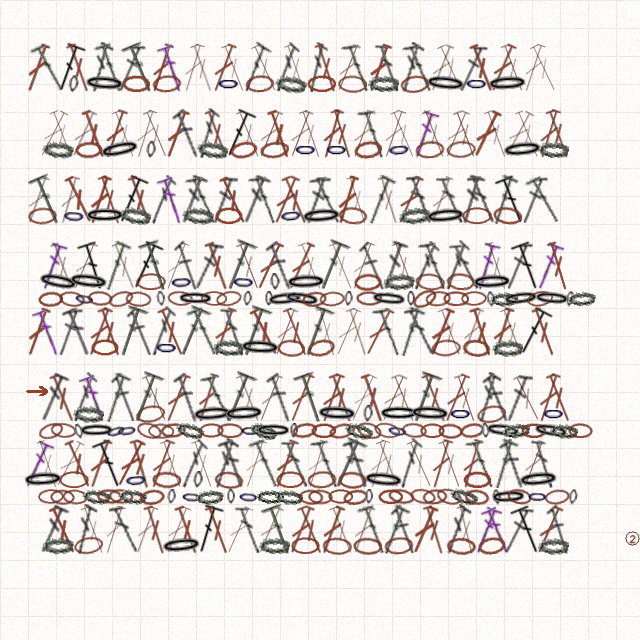chain: (98, 137, 142, 162), (36, 270, 80, 294), (424, 73, 467, 94), (501, 139, 544, 160), (67, 271, 110, 292), (517, 469, 560, 490), (160, 535, 203, 556), (300, 206, 343, 226), (424, 206, 467, 226), (191, 404, 234, 424), (362, 470, 405, 490), (83, 74, 126, 93), (486, 74, 529, 93), (239, 338, 281, 357), (223, 404, 265, 423), (316, 404, 358, 423), (409, 404, 451, 423), (22, 470, 64, 489), (283, 289, 321, 309), (532, 421, 570, 441), (285, 273, 327, 291), (471, 273, 513, 291), (410, 286, 439, 311), (502, 289, 540, 308), (484, 421, 522, 440), (84, 207, 126, 224), (378, 405, 420, 422), (196, 139, 229, 160), (119, 205, 152, 226), (398, 205, 431, 226), (266, 290, 304, 308), (370, 290, 408, 308), (306, 337, 337, 359), (135, 403, 166, 425), (476, 403, 507, 425), (248, 420, 279, 442), (229, 139, 259, 161), (492, 205, 523, 226), (73, 535, 104, 556), (533, 290, 571, 307), (275, 74, 307, 94), (353, 139, 383, 160), (175, 420, 205, 441), (449, 486, 479, 507), (477, 535, 507, 556), (259, 140, 290, 160), (107, 288, 135, 310), (37, 420, 65, 442), (42, 140, 74, 159), (182, 206, 214, 225), (383, 272, 415, 291), (42, 536, 74, 555), (400, 74, 430, 94), (415, 272, 445, 292), (344, 421, 374, 441), (214, 470, 244, 490), (490, 489, 527, 505), (135, 420, 163, 441), (355, 420, 383, 441), (435, 486, 463, 507), (462, 338, 491, 358), (152, 74, 182, 93), (245, 74, 275, 93), (415, 140, 445, 159), (446, 140, 476, 159), (338, 206, 368, 225), (501, 421, 531, 440), (307, 470, 337, 489), (384, 536, 414, 555), (328, 421, 356, 441), (492, 339, 523, 357), (73, 405, 104, 423), (538, 537, 569, 555), (177, 291, 214, 306), (78, 423, 115, 438), (255, 423, 292, 438), (446, 272, 475, 291), (431, 339, 461, 357), (322, 537, 352, 555), (446, 537, 476, 555), (215, 289, 243, 308), (526, 289, 554, 308), (373, 421, 401, 440), (387, 487, 415, 506), (409, 487, 437, 506), (368, 75, 399, 92), (538, 141, 569, 158), (213, 339, 244, 356), (259, 537, 290, 554), (338, 75, 367, 93), (28, 207, 57, 225), (152, 471, 181, 489), (338, 471, 367, 489), (195, 488, 224, 506), (353, 537, 382, 555), (291, 421, 318, 440), (459, 421, 486, 440), (506, 487, 533, 506), (462, 207, 492, 224), (136, 273, 166, 290), (59, 471, 89, 488), (75, 141, 103, 159), (354, 273, 382, 291), (58, 290, 86, 308), (277, 339, 305, 357), (307, 75, 336, 92), (567, 290, 596, 307), (276, 471, 305, 488), (82, 488, 111, 505), (118, 488, 147, 505), (291, 537, 320, 554), (301, 290, 328, 308), (342, 488, 369, 506), (104, 421, 128, 441), (122, 75, 150, 92), (215, 207, 243, 224), (91, 339, 119, 356), (463, 471, 491, 488), (139, 488, 165, 506), (464, 488, 490, 506), (544, 488, 570, 506), (50, 422, 77, 439), (96, 488, 123, 505), (387, 140, 411, 159), (279, 206, 303, 225), (490, 291, 518, 307), (550, 423, 578, 439), (275, 489, 303, 505), (87, 290, 113, 307), (167, 290, 193, 307), (425, 290, 451, 307), (160, 422, 186, 439), (401, 422, 427, 439), (108, 488, 134, 505), (422, 488, 448, 505), (62, 207, 86, 225), (125, 291, 152, 307), (124, 471, 148, 489), (256, 489, 284, 504), (319, 291, 345, 307), (148, 423, 174, 439), (62, 489, 88, 505), (298, 489, 324, 505), (170, 273, 193, 291), (232, 273, 255, 291), (73, 290, 96, 308), (386, 422, 409, 440), (38, 291, 63, 307), (438, 423, 463, 439), (50, 489, 75, 505), (308, 489, 333, 505), (217, 75, 240, 92), (465, 75, 488, 92), (294, 141, 317, 158), (325, 141, 348, 158), (155, 339, 178, 356), (449, 405, 472, 422), (542, 405, 565, 422), (201, 291, 227, 306), (356, 291, 382, 306), (443, 291, 469, 306), (461, 291, 487, 306), (217, 423, 243, 438), (38, 489, 64, 504), (199, 423, 224, 438), (311, 423, 336, 438), (420, 423, 445, 438), (521, 423, 546, 438), (568, 423, 593, 438), (328, 489, 353, 504), (378, 489, 403, 504), (116, 422, 138, 439), (181, 489, 202, 505), (238, 489, 259, 505), (240, 423, 261, 438), (527, 489, 548, 504), (68, 75, 79, 93), (73, 423, 85, 439), (146, 141, 156, 158), (270, 273, 280, 290), (363, 405, 373, 422), (193, 471, 203, 488), (486, 291, 496, 307), (565, 291, 575, 307), (492, 489, 502, 505), (568, 489, 578, 505), (156, 291, 166, 306), (243, 291, 252, 306), (344, 291, 353, 306), (481, 423, 490, 438), (167, 489, 176, 504), (265, 291, 273, 306), (407, 291, 415, 306), (290, 423, 298, 438), (227, 489, 235, 504), (365, 489, 373, 504)
double: (513, 305, 554, 359), (328, 437, 368, 491), (121, 41, 160, 95), (219, 107, 258, 161), (28, 173, 67, 227), (126, 239, 165, 293), (173, 305, 212, 359), (219, 371, 258, 425), (112, 173, 150, 227), (220, 239, 258, 293), (313, 239, 351, 293), (127, 371, 165, 425), (509, 503, 547, 557), (524, 174, 563, 226), (494, 173, 531, 227), (236, 305, 273, 359), (298, 305, 335, 359), (406, 371, 443, 425), (91, 437, 128, 491), (261, 503, 298, 557), (29, 42, 67, 94), (34, 108, 72, 160), (499, 108, 537, 160), (50, 438, 88, 490), (51, 41, 87, 95), (138, 239, 174, 293), (510, 239, 546, 293), (113, 305, 149, 359), (293, 371, 329, 425), (468, 108, 505, 160), (246, 306, 283, 358), (360, 306, 397, 358), (509, 372, 546, 424), (237, 41, 273, 94), (185, 173, 221, 226), (309, 173, 345, 226), (361, 173, 397, 226), (185, 305, 221, 358), (76, 239, 111, 293), (112, 438, 149, 489), (247, 42, 283, 94), (433, 42, 469, 94), (526, 42, 562, 94), (200, 372, 236, 424), (345, 372, 381, 424), (45, 504, 81, 556), (402, 41, 437, 94), (247, 437, 282, 490), (376, 503, 411, 556), (61, 174, 97, 225), (485, 42, 520, 94), (66, 108, 101, 160), (386, 108, 421, 160), (216, 174, 251, 226), (268, 174, 303, 226), (278, 174, 313, 226), (392, 174, 427, 226), (252, 240, 287, 292), (283, 240, 318, 292), (61, 306, 96, 358), (154, 306, 189, 358), (330, 306, 365, 358), (138, 372, 173, 424), (376, 372, 411, 424), (20, 438, 55, 490), (61, 438, 96, 490), (35, 504, 70, 556), (221, 504, 256, 556), (252, 504, 287, 556), (407, 504, 442, 556), (531, 504, 566, 556), (98, 239, 132, 292), (98, 371, 132, 424), (465, 437, 499, 490), (191, 503, 225, 556), (217, 42, 251, 94), (331, 42, 365, 94), (424, 42, 458, 94), (139, 108, 173, 160), (232, 108, 266, 160), (253, 108, 287, 160), (439, 108, 473, 160), (511, 108, 545, 160), (238, 174, 272, 226), (67, 240, 101, 292), (232, 240, 266, 292), (294, 240, 328, 292), (325, 240, 359, 292), (279, 306, 313, 358), (424, 306, 458, 358), (36, 372, 70, 424), (46, 372, 80, 424), (160, 372, 194, 424), (232, 372, 266, 424), (253, 372, 287, 424), (284, 372, 318, 424), (387, 372, 421, 424), (418, 372, 452, 424), (439, 372, 473, 424), (542, 372, 576, 424), (403, 438, 437, 490), (160, 504, 194, 556), (284, 504, 318, 556), (294, 504, 328, 556), (325, 504, 359, 556), (480, 504, 514, 556), (93, 41, 126, 94), (341, 41, 374, 94), (248, 173, 281, 226), (486, 173, 519, 226), (418, 239, 451, 292), (372, 305, 405, 358), (393, 305, 426, 358), (310, 437, 343, 490), (356, 503, 389, 556), (21, 42, 54, 94), (207, 42, 240, 94), (46, 108, 79, 160), (108, 108, 141, 160), (160, 108, 193, 160), (201, 108, 234, 160), (284, 108, 317, 160), (418, 108, 451, 160), (449, 108, 482, 160), (480, 108, 513, 160), (542, 108, 575, 160), (124, 174, 157, 226), (176, 174, 209, 226), (108, 240, 141, 292), (160, 240, 193, 292), (201, 240, 234, 292), (346, 240, 379, 292), (532, 240, 565, 292), (31, 306, 64, 358), (83, 306, 116, 358), (269, 306, 302, 358), (434, 306, 467, 358), (496, 306, 529, 358), (325, 372, 358, 424), (145, 438, 178, 490), (217, 438, 250, 490), (269, 438, 302, 490), (372, 438, 405, 490), (517, 438, 550, 490), (77, 504, 110, 556), (129, 504, 162, 556), (201, 504, 234, 556), (470, 504, 503, 556), (357, 107, 389, 160), (487, 437, 519, 490), (191, 240, 224, 291), (63, 42, 95, 94), (280, 42, 312, 94), (363, 42, 395, 94), (466, 42, 498, 94), (497, 42, 529, 94), (78, 108, 110, 160), (99, 108, 131, 160), (295, 108, 327, 160), (347, 108, 379, 160), (378, 108, 410, 160), (94, 174, 126, 226), (425, 174, 457, 226), (47, 240, 79, 292), (388, 240, 420, 292), (22, 306, 54, 358), (94, 306, 126, 358), (208, 306, 240, 358), (456, 306, 488, 358), (528, 306, 560, 358), (78, 372, 110, 424), (316, 372, 348, 424), (357, 372, 389, 424), (450, 372, 482, 424), (32, 438, 64, 490), (84, 438, 116, 490), (156, 438, 188, 490), (187, 438, 219, 490), (239, 438, 271, 490), (342, 438, 374, 490), (435, 438, 467, 490), (171, 504, 203, 556), (316, 504, 348, 556), (347, 504, 379, 556), (449, 241, 482, 291), (501, 505, 534, 555), (171, 108, 203, 159), (264, 240, 296, 291), (404, 306, 436, 357), (481, 372, 513, 423), (208, 438, 240, 489), (440, 504, 472, 555), (146, 42, 177, 94), (156, 42, 187, 94), (187, 42, 218, 94), (311, 42, 342, 94), (518, 42, 549, 94), (130, 108, 161, 160), (264, 108, 295, 160), (409, 108, 440, 160), (22, 174, 53, 226), (84, 174, 115, 226), (156, 174, 187, 226), (342, 174, 373, 226), (373, 174, 404, 226), (37, 240, 68, 292), (378, 240, 409, 292), (481, 240, 512, 292), (342, 306, 373, 358), (466, 306, 497, 358), (487, 306, 518, 358), (192, 372, 223, 424), (533, 372, 564, 424), (99, 504, 130, 556), (140, 504, 171, 556), (419, 504, 450, 556), (456, 43, 488, 93), (146, 175, 178, 225), (357, 241, 389, 291), (409, 241, 441, 291), (177, 439, 209, 489), (115, 42, 146, 93), (125, 306, 156, 357), (68, 372, 99, 423), (109, 372, 140, 423), (109, 504, 140, 555), (178, 42, 208, 94), (317, 108, 347, 160), (327, 108, 357, 160), (534, 108, 564, 160), (54, 174, 84, 226), (312, 306, 342, 358), (302, 438, 332, 490), (364, 438, 394, 490), (426, 438, 456, 490), (457, 438, 487, 490), (271, 42, 301, 93), (395, 42, 425, 93), (436, 174, 466, 225), (467, 174, 497, 225), (172, 240, 202, 291), (441, 240, 471, 291), (503, 240, 533, 291), (147, 306, 177, 357), (172, 372, 202, 423), (265, 372, 295, 423), (472, 372, 502, 423), (503, 372, 533, 423), (281, 438, 311, 489), (498, 438, 528, 489), (389, 504, 419, 555), (333, 174, 362, 226), (457, 174, 486, 226), (472, 240, 501, 292), (544, 240, 573, 292), (126, 438, 155, 490), (85, 42, 114, 93), (209, 174, 238, 225), (302, 174, 331, 225), (519, 174, 548, 225), (395, 438, 424, 489), (452, 504, 480, 556), (406, 174, 434, 225), (55, 306, 83, 357), (70, 504, 98, 555), (235, 504, 263, 555), (545, 504, 573, 555), (375, 42, 402, 93), (194, 108, 221, 159), (220, 306, 247, 357), (304, 42, 329, 93), (531, 438, 556, 489)
noise: (623, 529, 640, 548), (25, 386, 50, 396)
